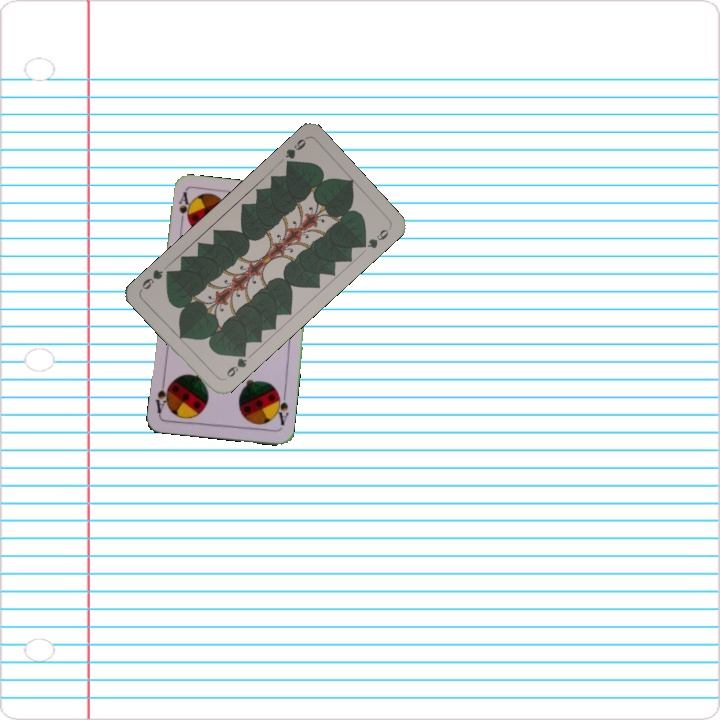G9: (220, 348, 250, 383), (281, 134, 309, 170)
SA: (271, 388, 291, 428), (175, 188, 193, 229)
